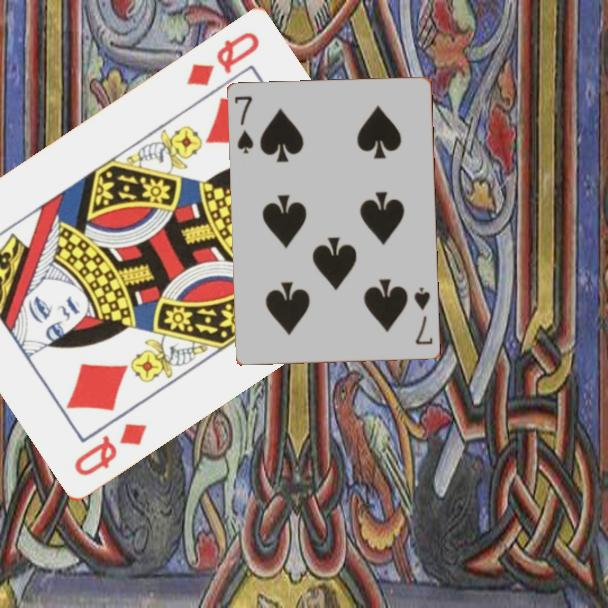d12: (182, 29, 263, 90), (70, 420, 150, 480)
s07: (231, 93, 257, 156), (411, 284, 436, 348)
